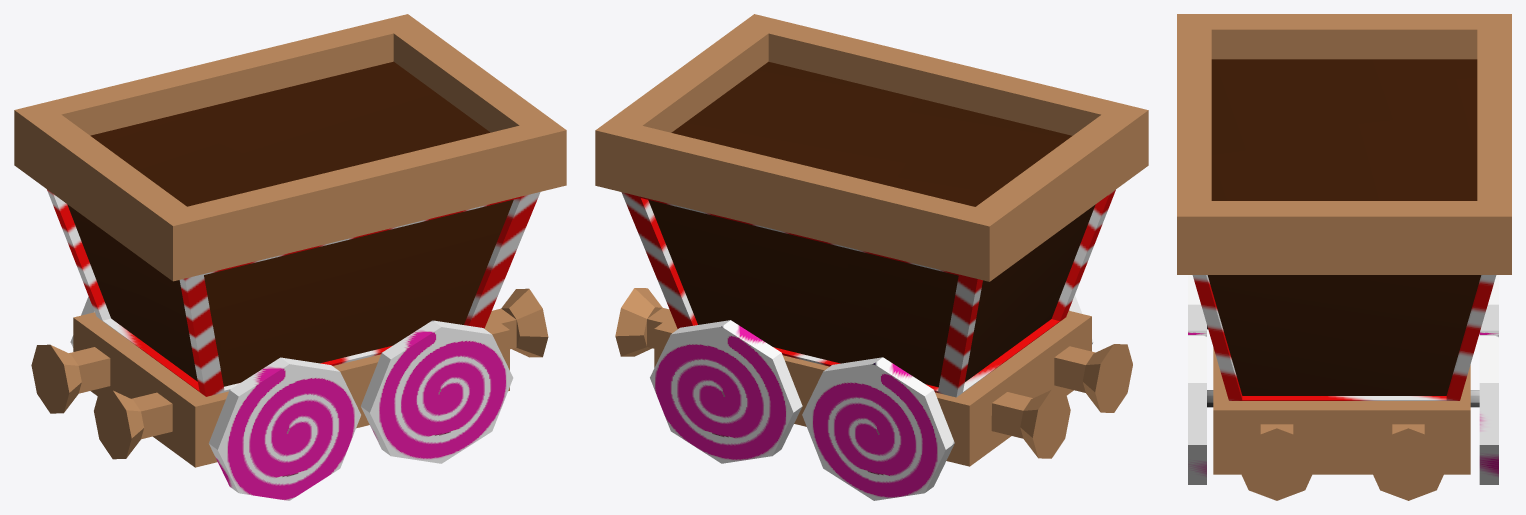
Rendered from SM_Cart.fbx.
3 renders of one model, left to right at view 1: azimuth 30°, elevation 25°; view 2: azimuth 150°, elevation 25°; view 3: azimuth 270°, elevation 25°, orthographic. The views are drawn at different scales.
Visible parts, largest first — view 1: SM_Cart; view 2: SM_Cart; view 3: SM_Cart.
Part boxes in pixels (x1,y1,x2,y2): SM_Cart: [14, 14, 566, 500]; SM_Cart: [595, 14, 1148, 500]; SM_Cart: [1177, 14, 1511, 500].
Bounding box in the file's own units: 1.66 × 1.17 × 1.1.
